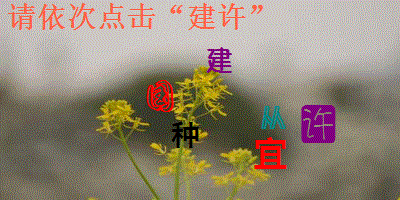text: (300, 104, 337, 145), (252, 136, 288, 171), (146, 78, 174, 112), (170, 119, 200, 150), (205, 47, 234, 75), (260, 104, 286, 131)
